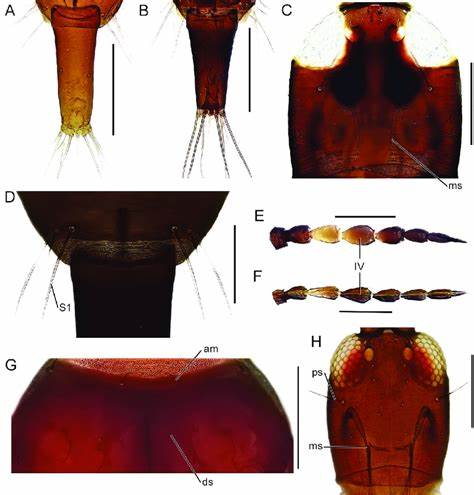Phlaeothripidae: (161, 1, 261, 180), (22, 1, 128, 162)
